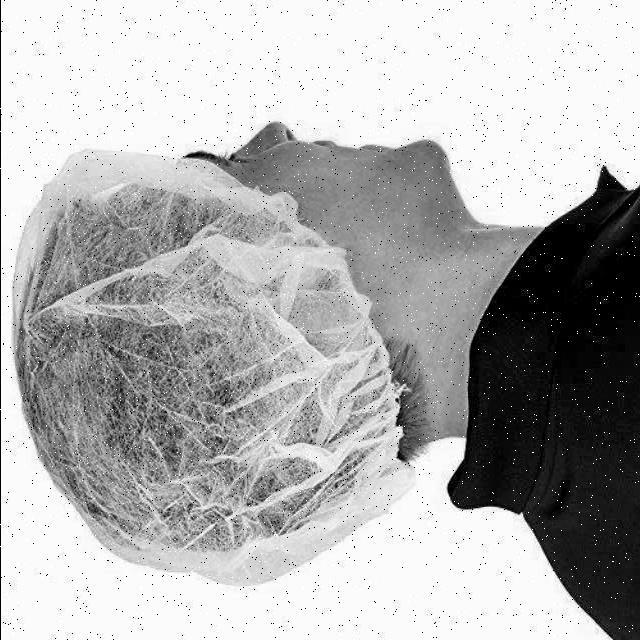gloves: (0, 125, 392, 589)
no_hairnet: (279, 125, 421, 227)
